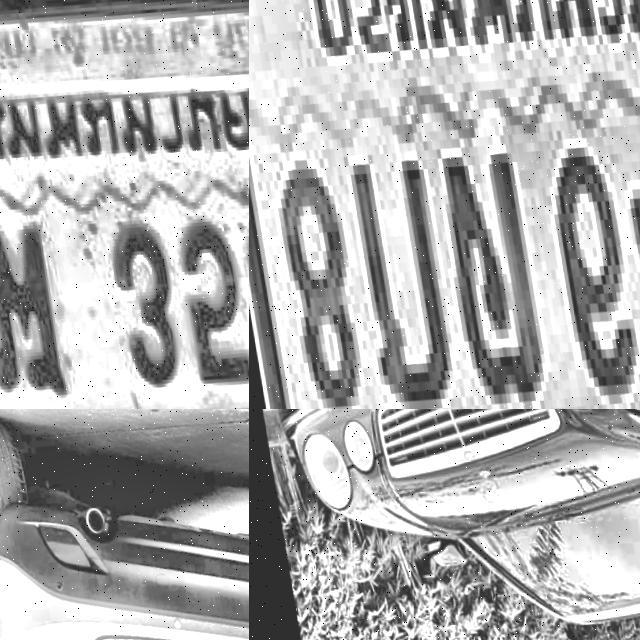license-plate: (249, 0, 640, 409), (0, 0, 249, 409)
